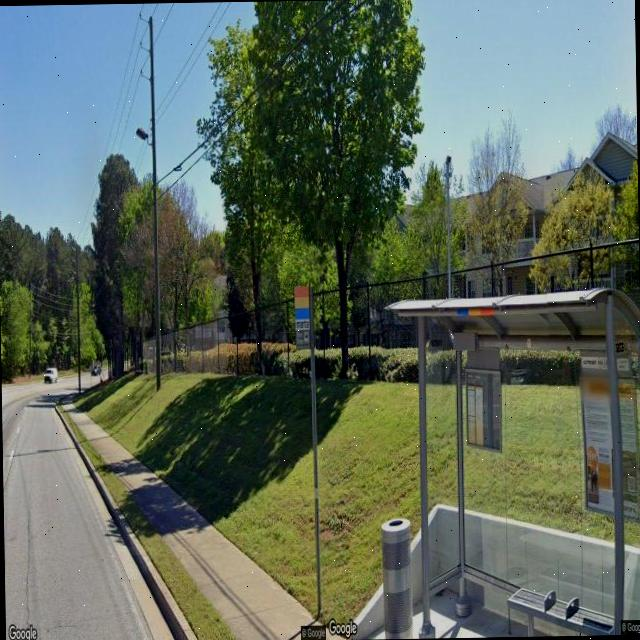seating: (504, 585, 616, 637)
shelter: (382, 284, 640, 638)
trash_can: (380, 516, 414, 638)
